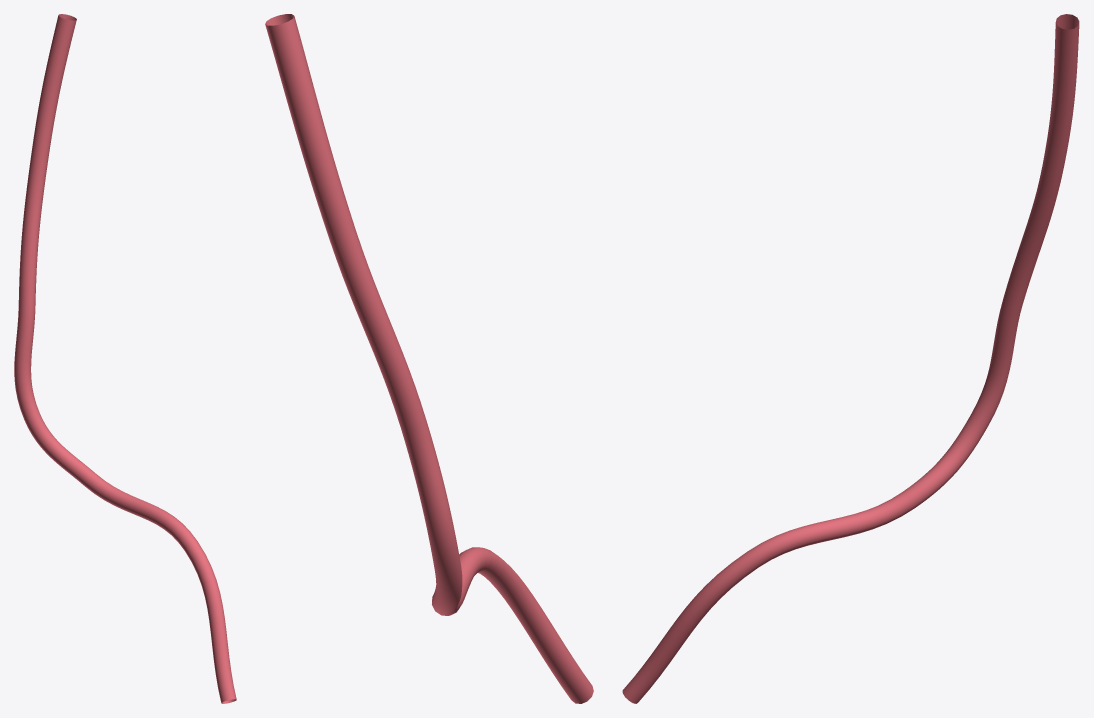
The picture shows the model from 3 angles, left to right: view 1: azimuth 30°, elevation 25°; view 2: azimuth 150°, elevation 25°; view 3: azimuth 270°, elevation 25°; orthographic projection. The views are drawn at different scales.
Parts seen in each view (by area): view 1: ZA_b0876ae2ea23dbb7; view 2: ZA_b0876ae2ea23dbb7; view 3: ZA_b0876ae2ea23dbb7.
Part boxes in pixels (x1,y1,x2,y2): ZA_b0876ae2ea23dbb7: [14, 14, 236, 703]; ZA_b0876ae2ea23dbb7: [265, 14, 593, 703]; ZA_b0876ae2ea23dbb7: [622, 14, 1079, 703].
Size of the model in its own units: 0.0132 by 0.0799 by 0.0478.
